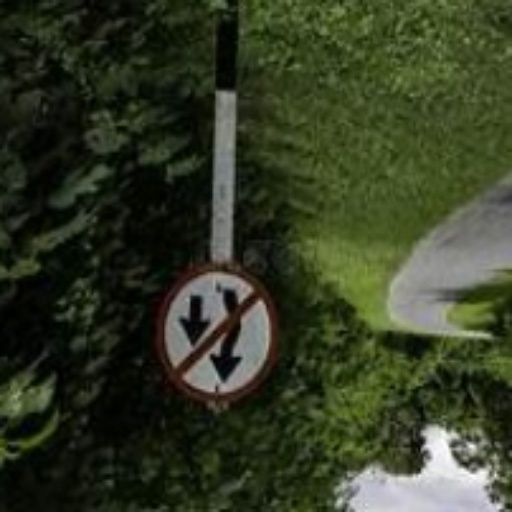No overtake from right: (144, 252, 285, 412)
